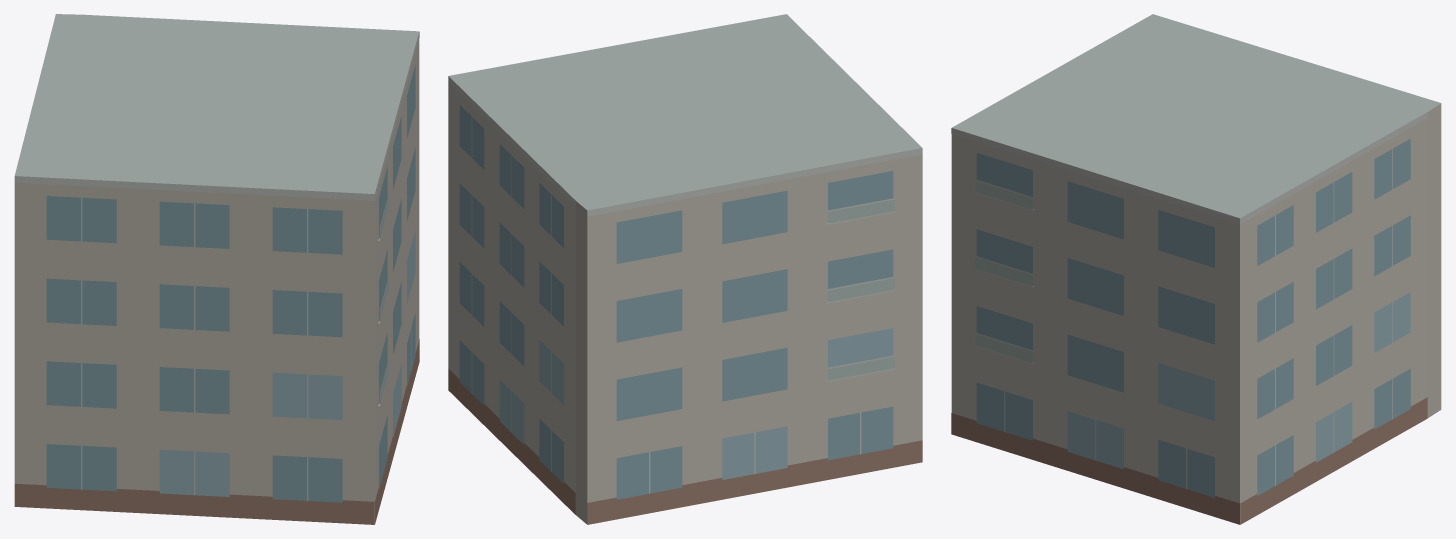
The model's file is survey-upis-32638144.glb.
The picture shows the model from 3 angles, left to right: view 1: azimuth 30°, elevation 25°; view 2: azimuth 150°, elevation 25°; view 3: azimuth 270°, elevation 25°; orthographic projection. The views are drawn at different scales.
Parts seen in each view (by area): view 1: survey-upis-32638144.tmp; view 2: survey-upis-32638144.tmp; view 3: survey-upis-32638144.tmp.
Boxes of the visible parts, left/top/right/bottom form: survey-upis-32638144.tmp: left=14, top=14, right=419, bottom=524; survey-upis-32638144.tmp: left=448, top=14, right=922, bottom=524; survey-upis-32638144.tmp: left=951, top=14, right=1441, bottom=524.
Bounding box in the file's own units: 17.24 × 12.05 × 17.46.
